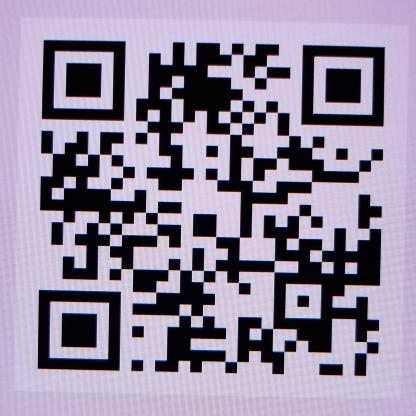qr: (24, 33, 398, 386)
